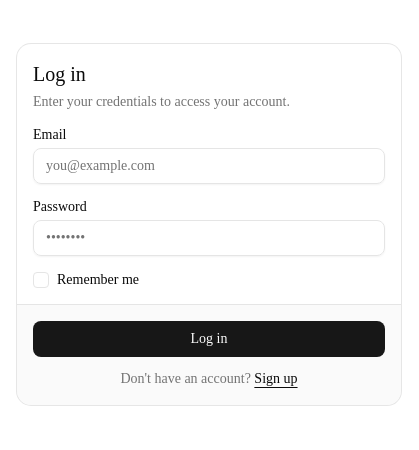
Test: LoginForm › falls back to a generic message for an unknown error
Type "a@b.com" into the field labelled "Email" at (209, 166), box top-left (33, 148), bottom-right (385, 184)
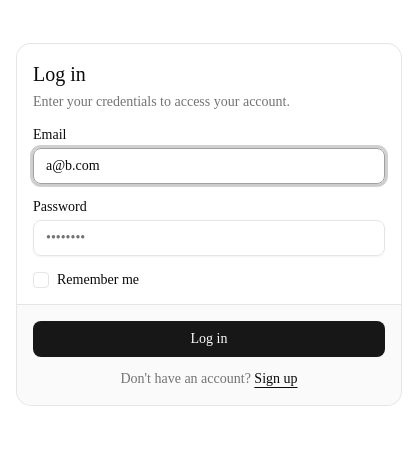
Type "secret12" into the password field labelled "Password" at (209, 238), box top-left (33, 220), bottom-right (385, 256)
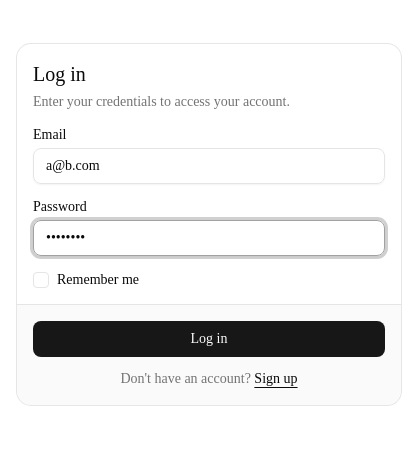
Click the button "Log in" at (209, 338), box top-left (33, 320), bottom-right (385, 356)
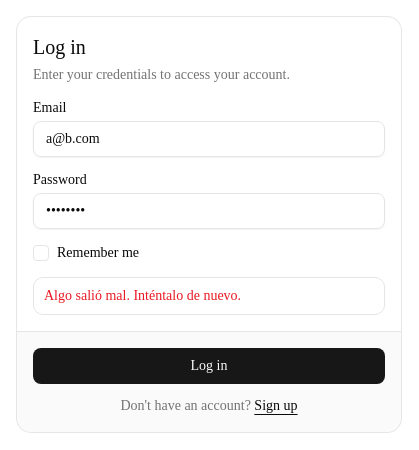
Check: the text "Algo salió mal. Inténtalo de nuevo." is shown, box top-left (44, 288), bottom-right (241, 302)
